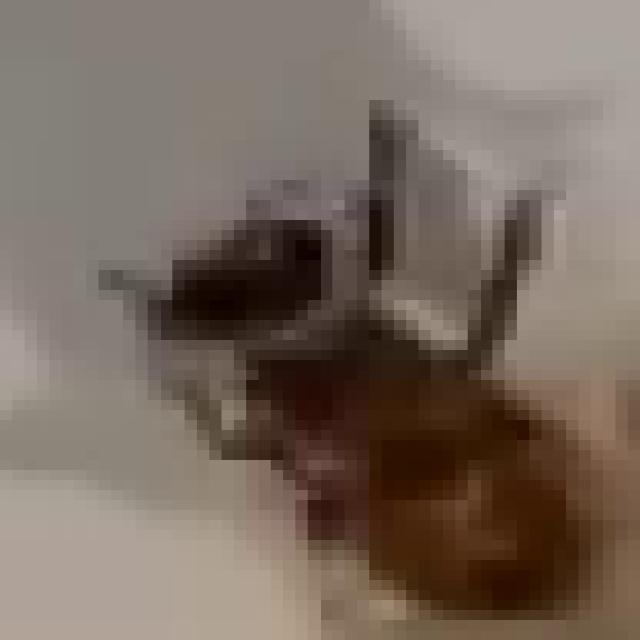honeybee: (61, 144, 601, 639)
